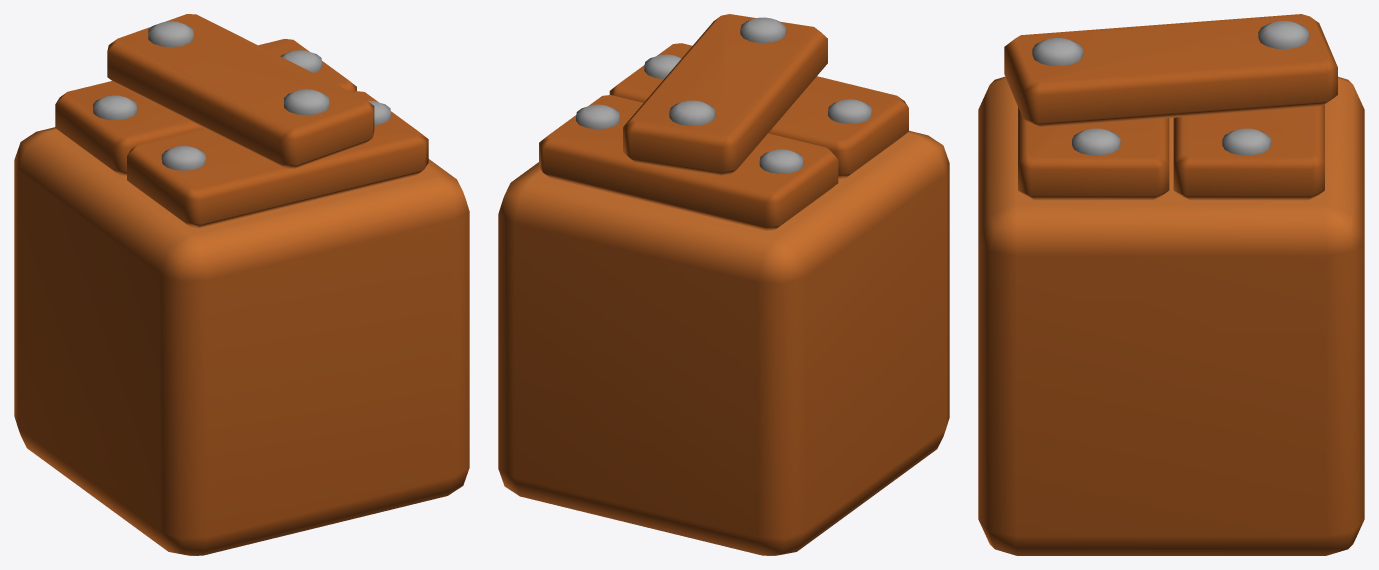
File: Wooden block.fbx
The picture shows the model from 3 angles, left to right: view 1: azimuth 30°, elevation 25°; view 2: azimuth 150°, elevation 25°; view 3: azimuth 270°, elevation 25°; orthographic projection. The views are drawn at different scales.
Parts seen in each view (by area): view 1: Wooden block, Wood 3, Wood 2, Wood 1; view 2: Wooden block, Wood 3, Wood 1, Wood 2; view 3: Wooden block, Wood 3, Wood 1, Wood 2.
Part boxes in pixels (bbox=[...]): Wooden block: bbox=[14, 127, 469, 555]; Wood 3: bbox=[107, 14, 374, 168]; Wood 2: bbox=[127, 91, 428, 228]; Wood 1: bbox=[55, 39, 356, 175]; Wooden block: bbox=[498, 130, 949, 555]; Wood 3: bbox=[623, 14, 827, 176]; Wood 1: bbox=[539, 95, 838, 230]; Wood 2: bbox=[609, 43, 908, 178]; Wooden block: bbox=[978, 76, 1364, 555]; Wood 3: bbox=[1004, 14, 1337, 127]; Wood 1: bbox=[1173, 104, 1324, 200]; Wood 2: bbox=[1018, 107, 1169, 200].
Bounding box in the file's own units: 100 × 129 × 100.
